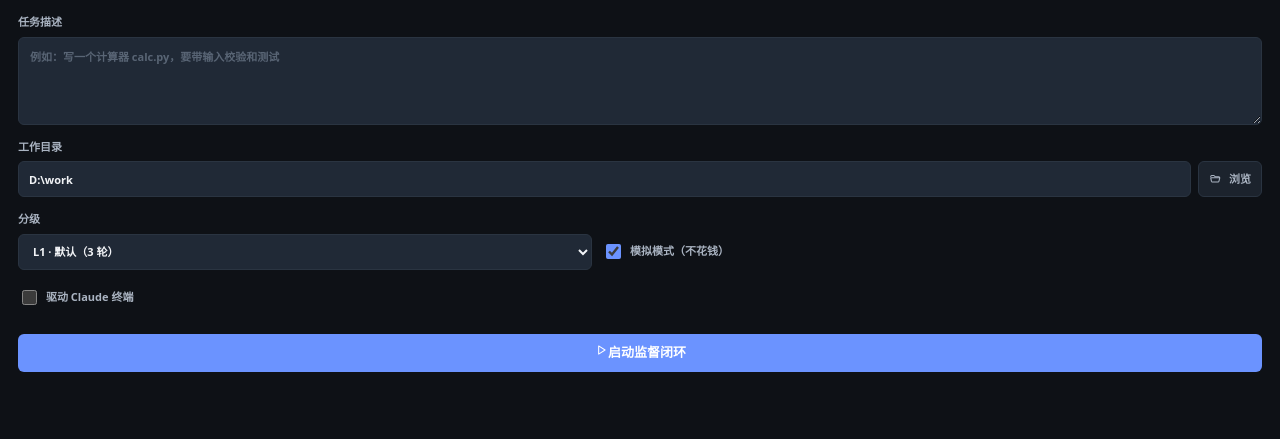
Scenario: SupervisePanel › done 事件带非 0 退出码 → 显示任务失败
Type "任务A" into the text box with placeholder "例如：写一个计算器 calc.py，要带输入校验和测试". click: (640,80)
box: x1=18 y1=36 x2=1262 y2=124
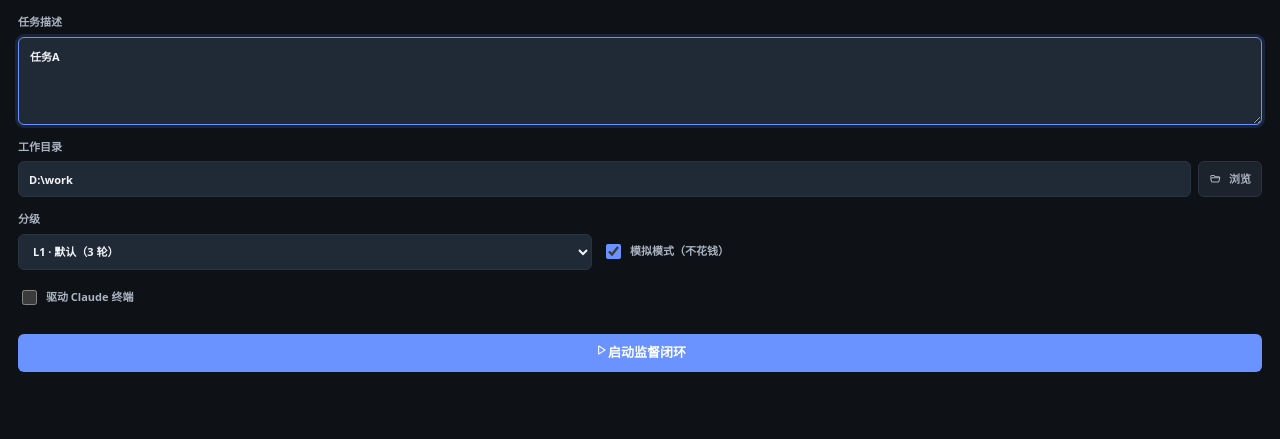
Click the button "启动监督闭环". click: (640,352)
box: x1=18 y1=334 x2=1262 y2=372
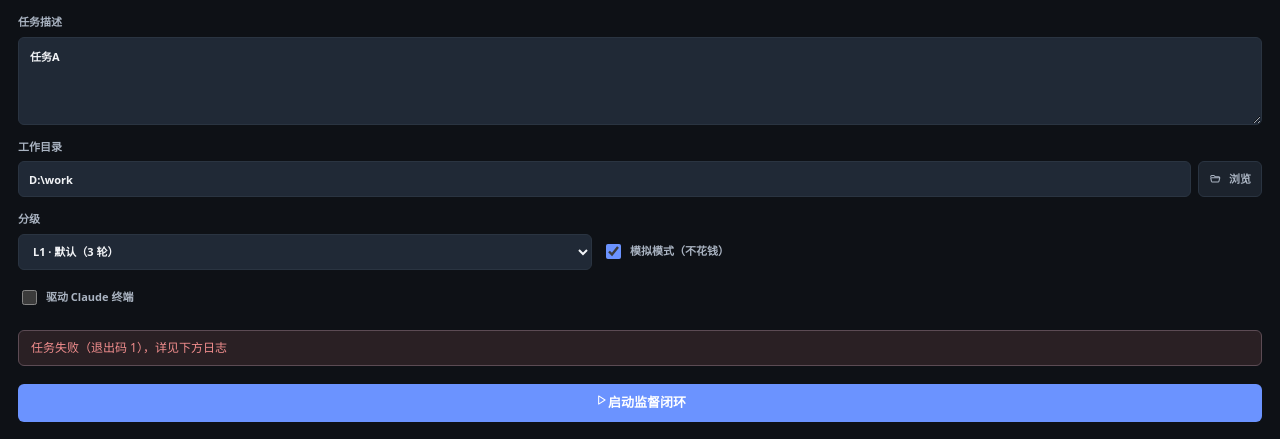
Expected: the text "任务失败（退出码 1），详见下方日志" is shown, x1=18 y1=330 x2=1262 y2=366
